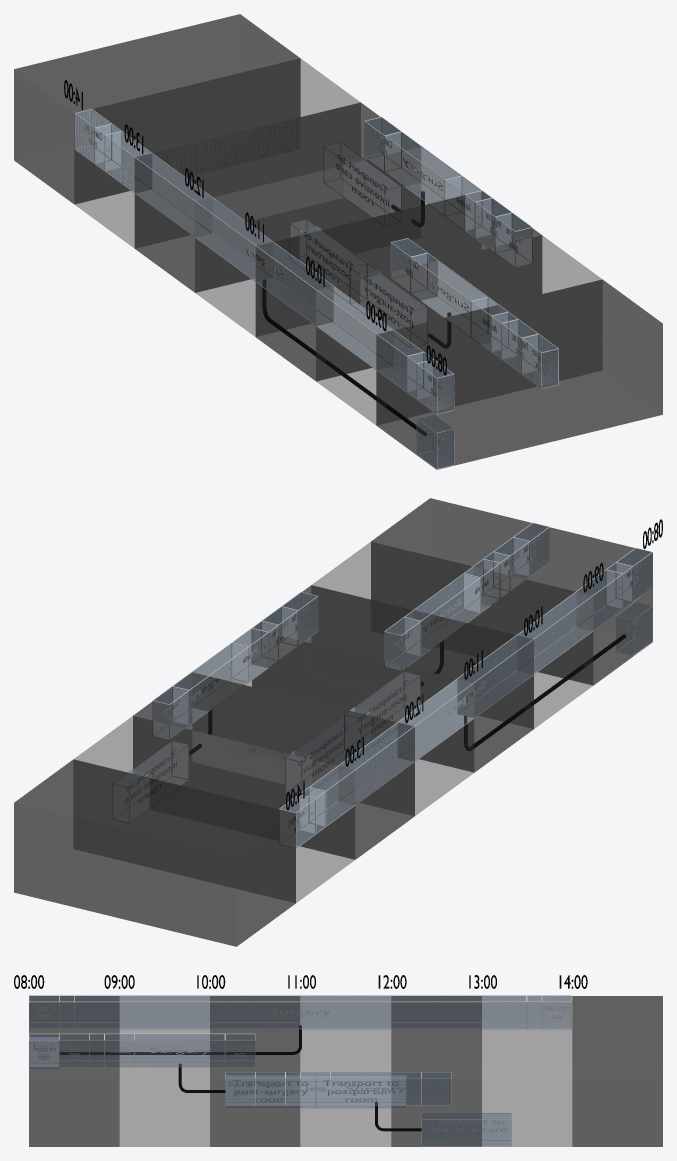
Rendered from 3DGantDiagramMockUp_2.0.fbx.
3 views of the same model, one above another, from view 1: azimuth 30°, elevation 25°; view 2: azimuth 150°, elevation 25°; view 3: azimuth 270°, elevation 25° (orthographic). The views are drawn at different scales.
Parts seen in each view (by area): view 1: Cube, Cube.004, Cube.006, Cube.002, Cube.005, Cube.001, Cube.003, Task_Surgery.001, Frame_Surgery.001, Task_Surgery, Task_Surgery.002, Task_PrepareThePatient.001 (+7 smaller); view 2: Cube.006, Cube, Cube.004, Cube.005, Cube.002, Cube.003, Cube.001, Task_Surgery.001, Task_Surgery.002, Frame_Surgery.001, Task_Surgery, Task_PrepareTheRoom.001 (+8 smaller); view 3: Task_Surgery.001, Cube.006, Cube.004, Cube, Cube.002, Cube.001, Cube.005, Cube.003, Task_Surgery, Task_TransportationToIntensiveCare, Task_Surgery.002, Frame_Surgery.001 (+22 smaller).
Part boxes in pixels (x1,y1,x2,y2): Cube: [376, 279, 662, 469]; Cube.004: [134, 102, 420, 292]; Cube.006: [14, 14, 300, 204]; Cube.002: [255, 191, 542, 381]; Cube.005: [74, 58, 360, 248]; Cube.001: [316, 235, 601, 425]; Cube.003: [195, 147, 480, 336]; Task_Surgery.001: [105, 132, 421, 390]; Frame_Surgery.001: [104, 131, 423, 392]; Task_Surgery: [385, 132, 460, 203]; Task_Surgery.002: [412, 254, 486, 317]; Task_PrepareThePatient.001: [417, 360, 453, 413]; Cube.006: [14, 759, 295, 946]; Cube: [371, 498, 652, 685]; Cube.004: [133, 672, 414, 859]; Cube.005: [74, 716, 354, 902]; Cube.002: [252, 585, 533, 772]; Cube.003: [193, 629, 473, 815]; Cube.001: [312, 542, 592, 728]; Task_Surgery.001: [310, 570, 622, 824]; Task_Surgery.002: [405, 574, 479, 654]; Frame_Surgery.001: [309, 569, 623, 826]; Task_Surgery: [174, 643, 247, 723]; Task_PrepareTheRoom.001: [617, 603, 652, 654]; Task_Surgery.001: [75, 996, 525, 1028]; Cube.006: [572, 996, 662, 1146]; Cube.004: [391, 996, 481, 1146]; Cube: [29, 996, 119, 1146]; Cube.002: [210, 996, 300, 1146]; Cube.001: [120, 996, 209, 1146]; Cube.005: [482, 996, 571, 1146]; Cube.003: [301, 996, 390, 1146]; Task_Surgery: [331, 1072, 420, 1104]; Task_TransportationToIntensiveCare: [422, 1113, 511, 1145]; Task_Surgery.002: [135, 1034, 224, 1066]; Frame_Surgery.001: [74, 995, 526, 1029].
Bounding box in the file's own units: 130 × 65.14 × 430.
